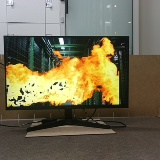fire: (4, 36, 128, 107)
